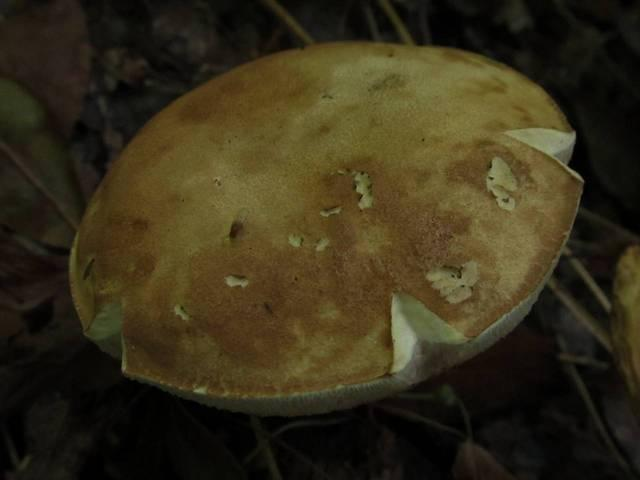poisonous_mushroom: (66, 38, 585, 417)
